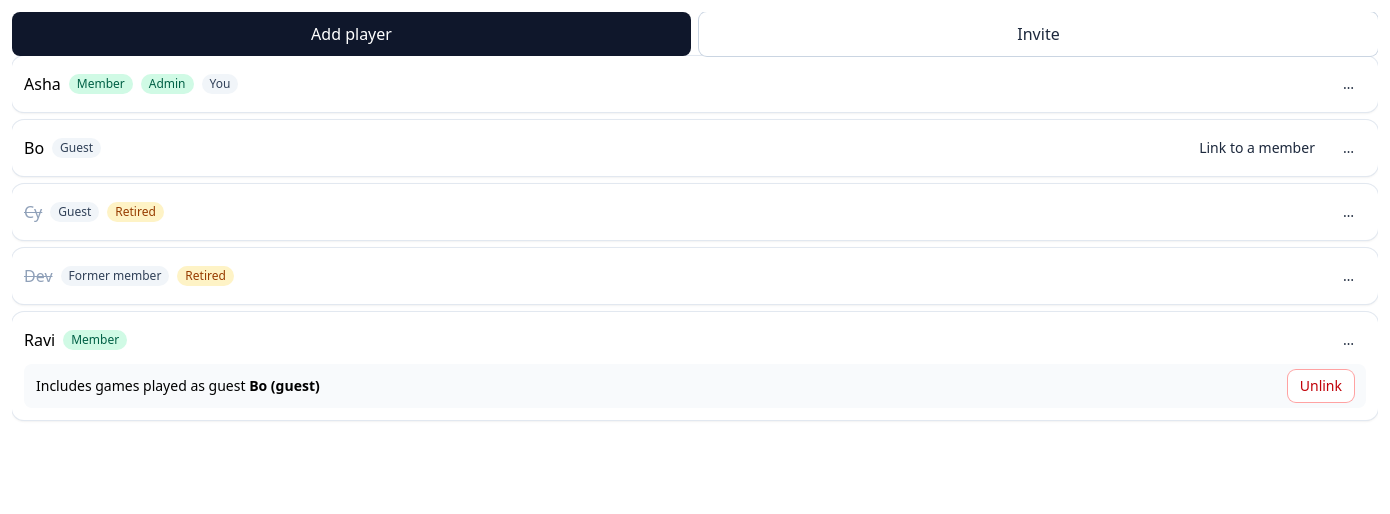
Test: removing someone from the league › shows why it failed
The image size is (1390, 514).
Click the button "…" in the row of "Ravi" at (1348, 340), box [1331, 324, 1366, 356]
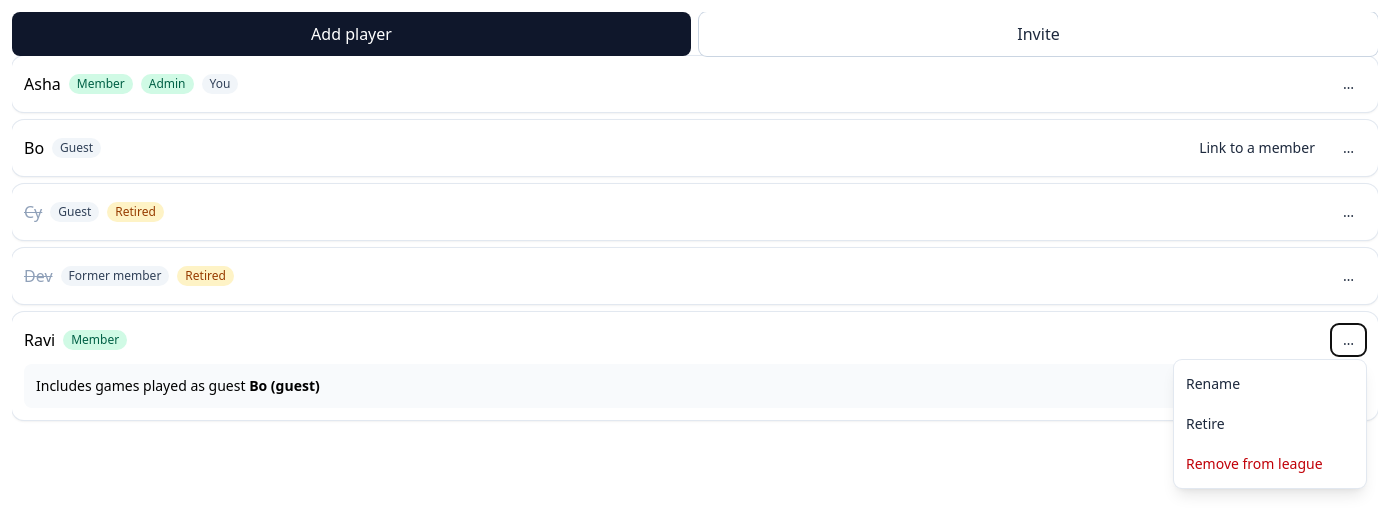
Click the menu item "Remove from league" at (1270, 464), box [1174, 444, 1366, 484]
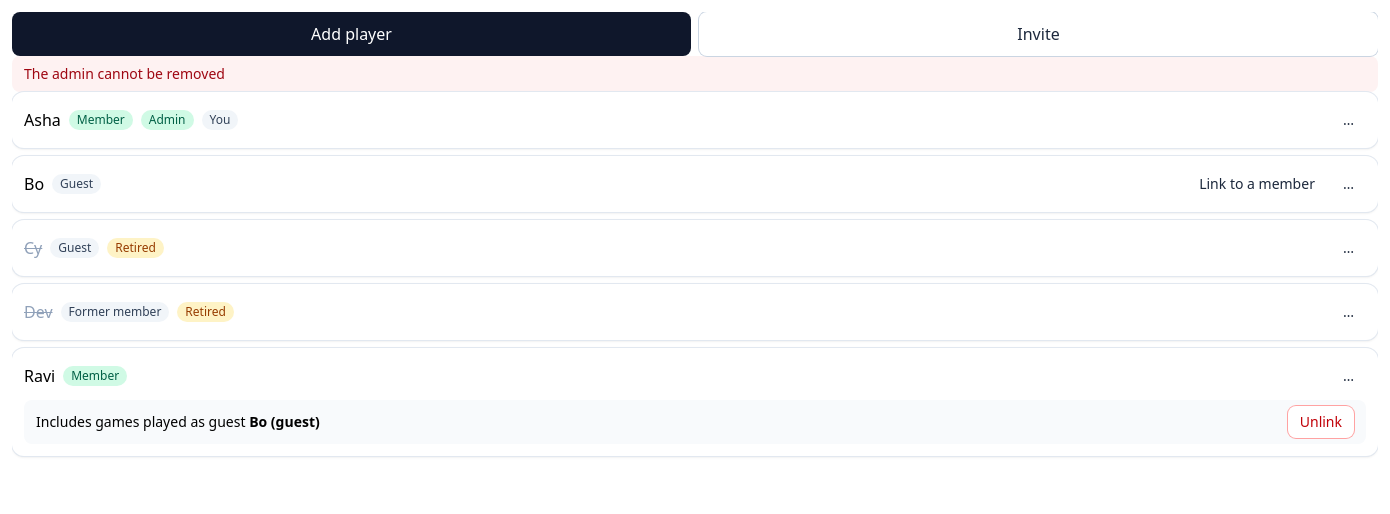
Expected: the message reads "The admin cannot be removed", [24, 64, 225, 83]
